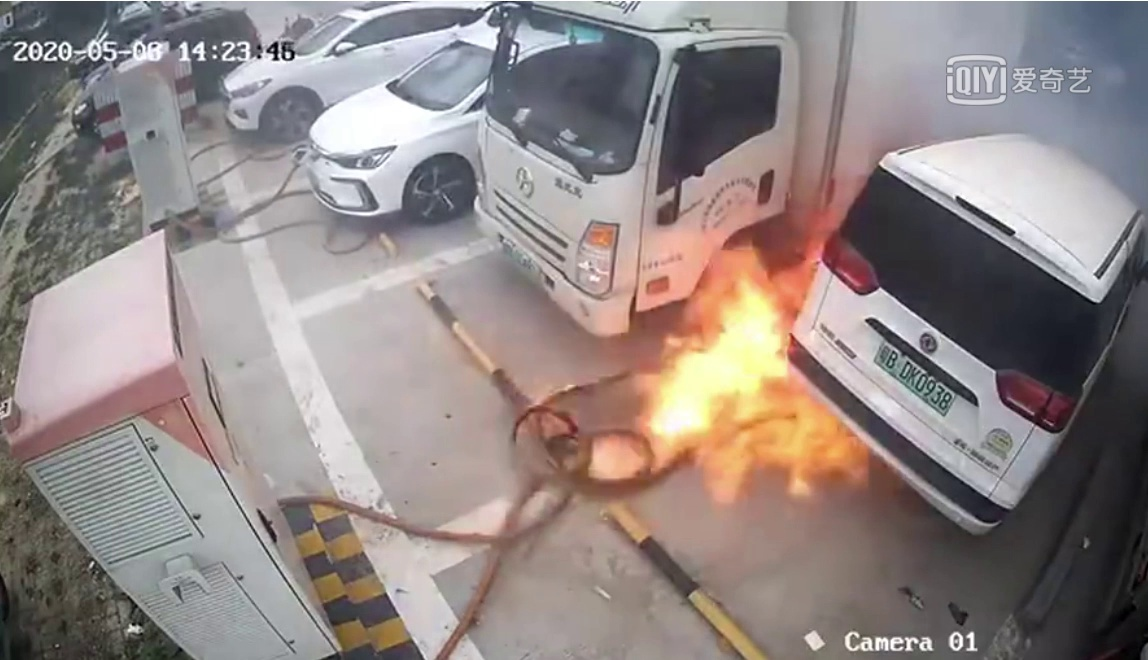fire: (641, 255, 864, 514)
